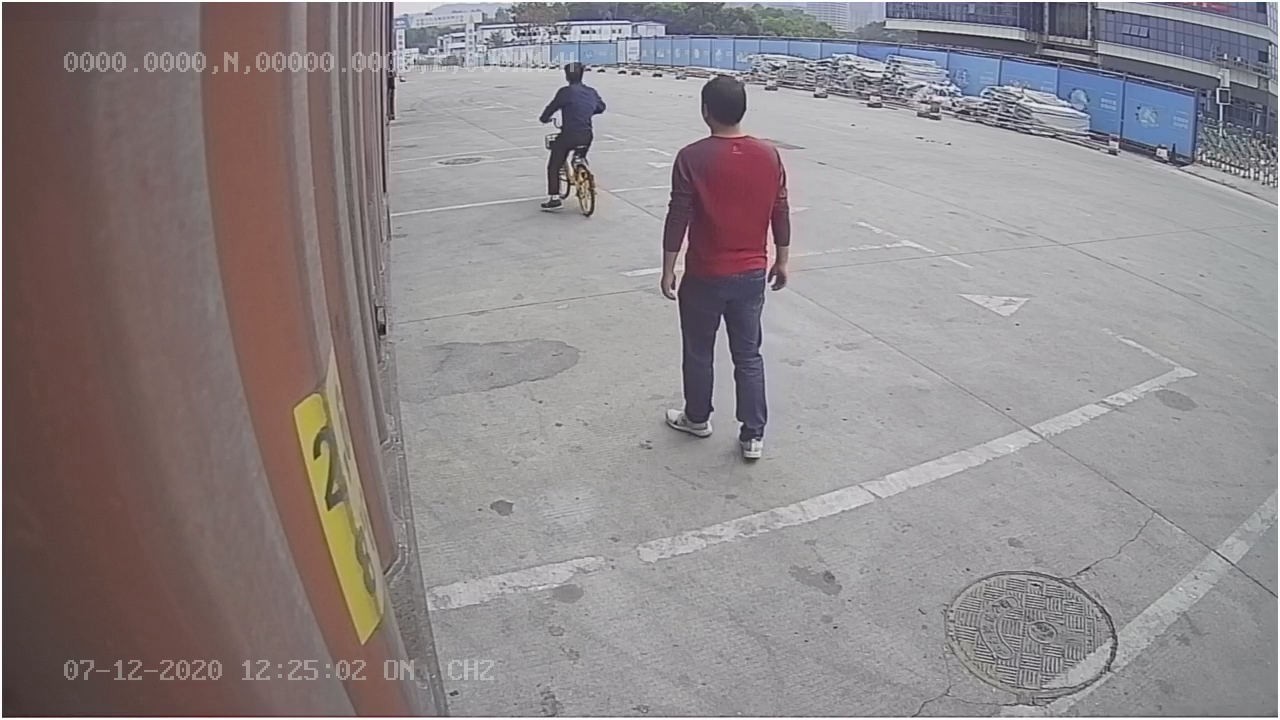person: (657, 69, 798, 462)
